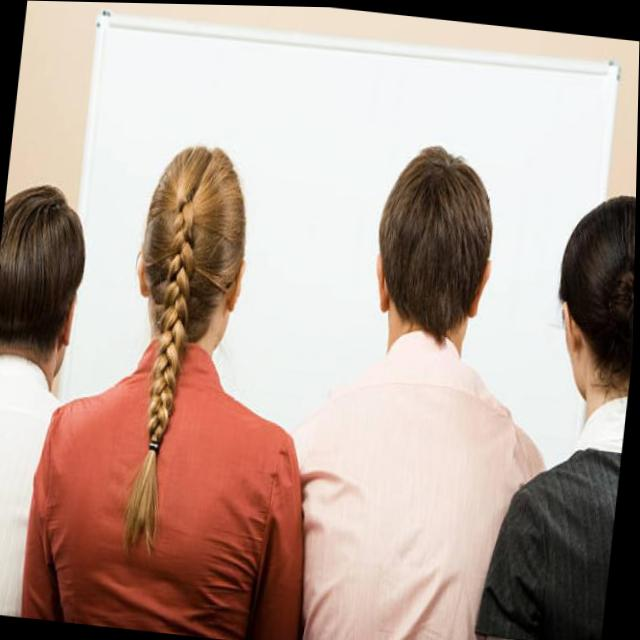no helmet: (362, 143, 508, 420), (123, 130, 261, 408), (0, 174, 97, 424), (543, 177, 637, 434)
